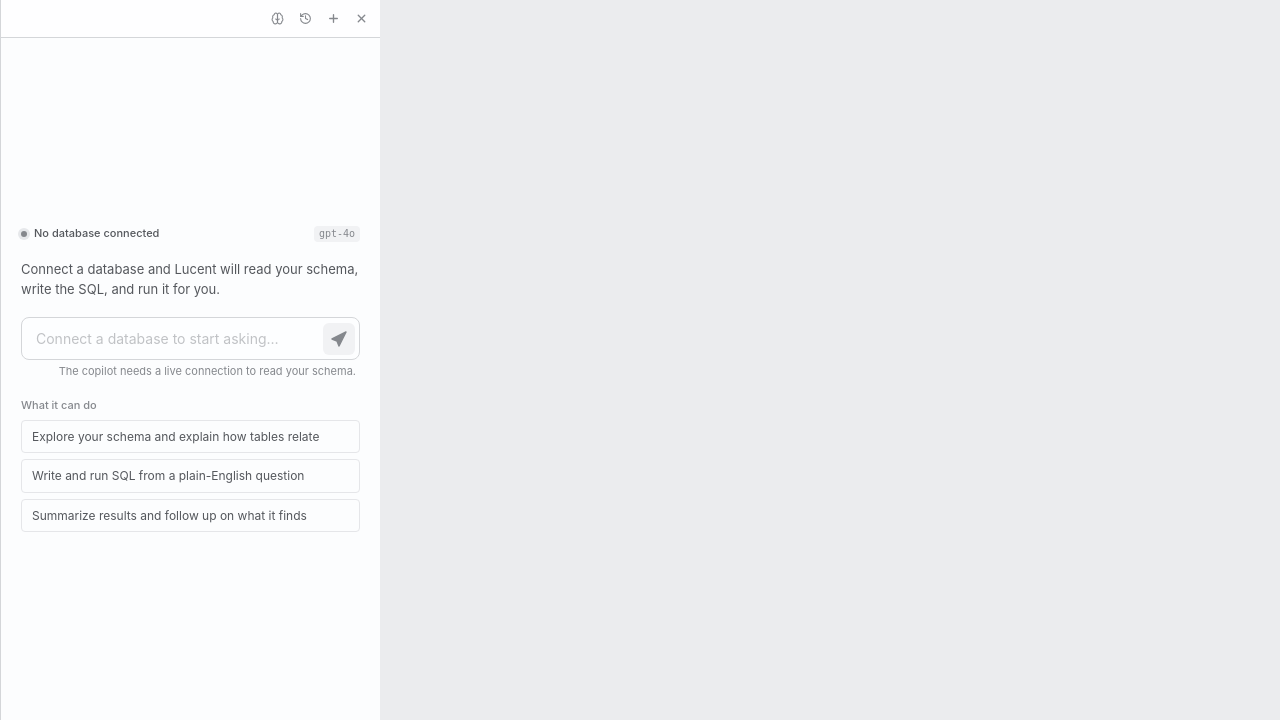
Test: ChatPanel — action buttons (Memory, Previous chats, New chat, Close) › opens the Previous Chats drawer when clicking the previous chats button
This screenshot has width=1280, height=720.
Click the button titled "Previous chats". click: (305, 18)
box: [292,6,318,32]
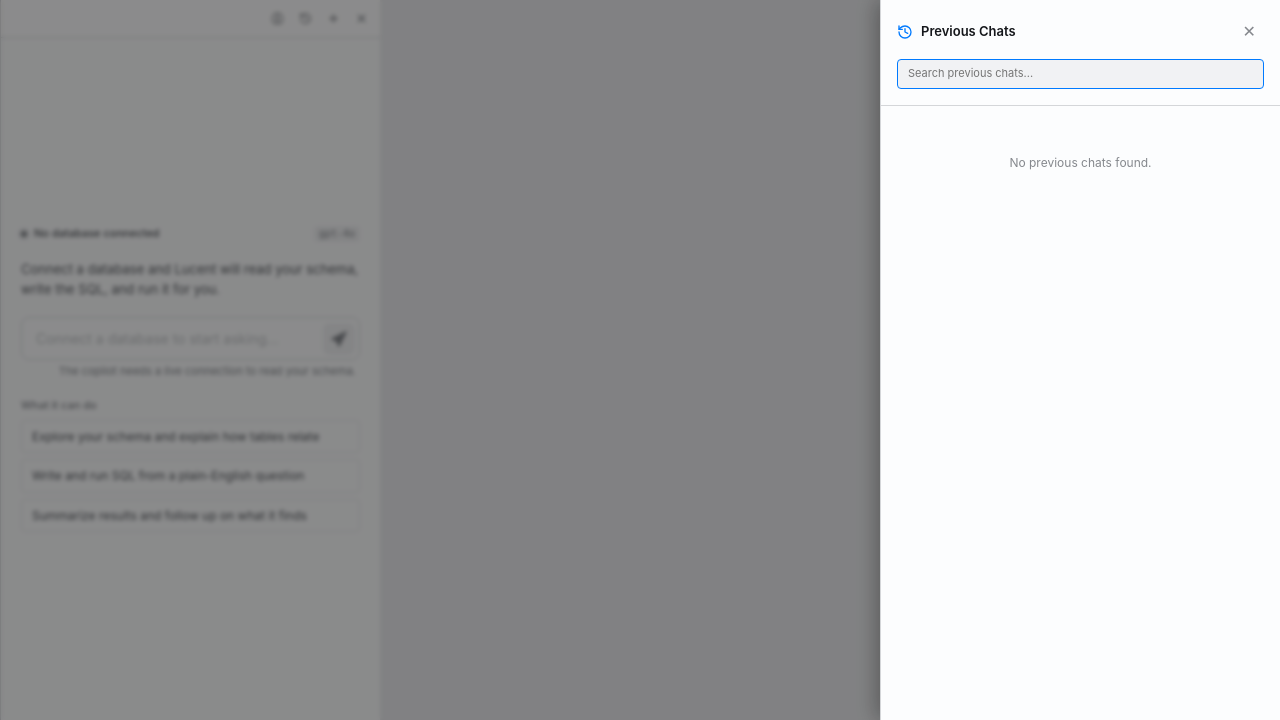
Result: the dialog named "Previous Chats" is shown at [880,0,1279,719]
